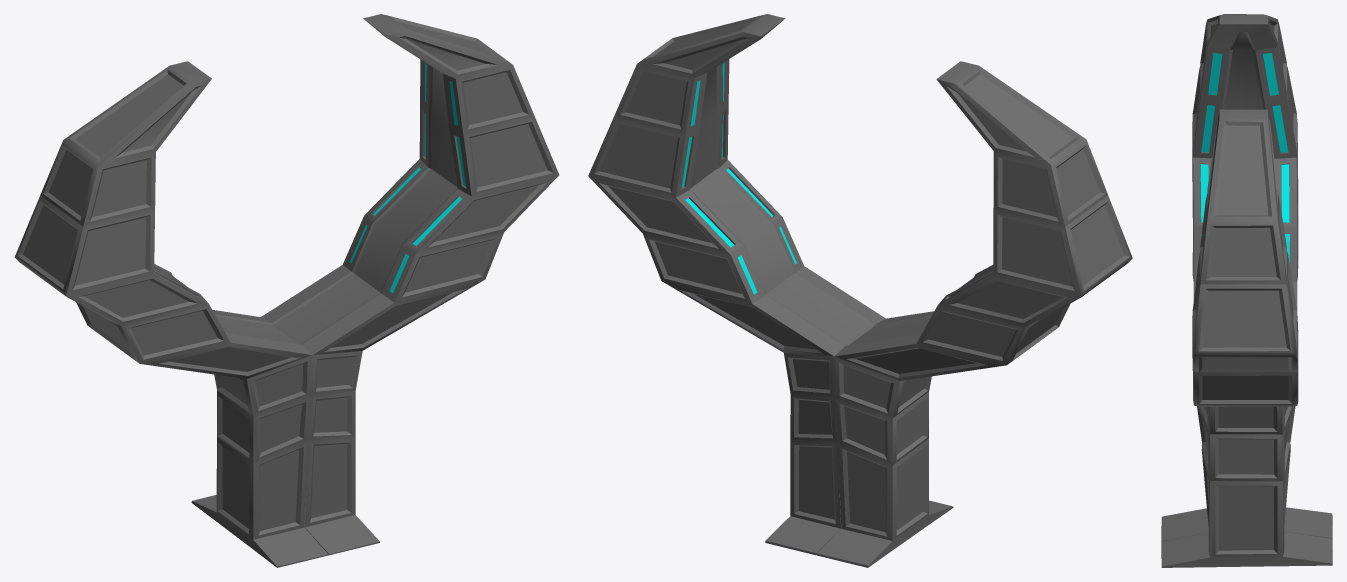
The model's file is future_truss.fbx.
The picture shows the model from 3 angles, left to right: view 1: azimuth 30°, elevation 25°; view 2: azimuth 150°, elevation 25°; view 3: azimuth 270°, elevation 25°; orthographic projection.
Parts seen in each view (by area): view 1: polySurface88; view 2: polySurface88; view 3: polySurface88.
Part boxes in pixels (box(x1,y1,x2,y2)): polySurface88: box(14, 14, 559, 567); polySurface88: box(588, 14, 1132, 567); polySurface88: box(1161, 14, 1332, 567).
Size of the model in its own units: 3.84 by 3.54 by 1.16.
